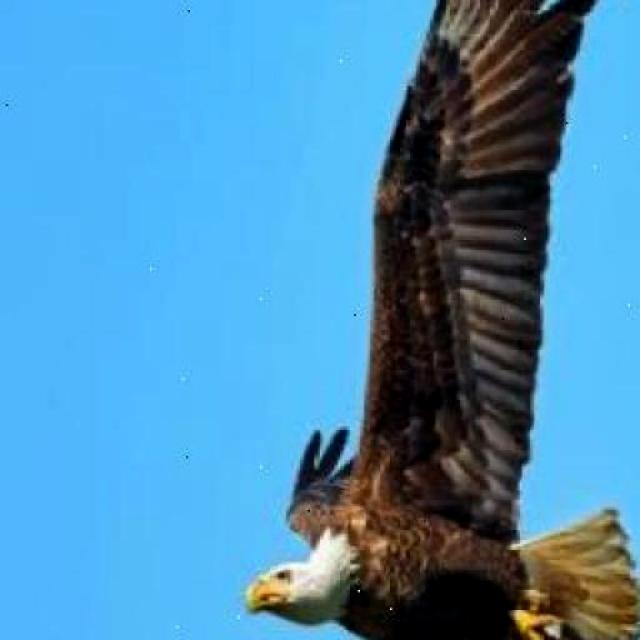airplane: (239, 0, 640, 640)
